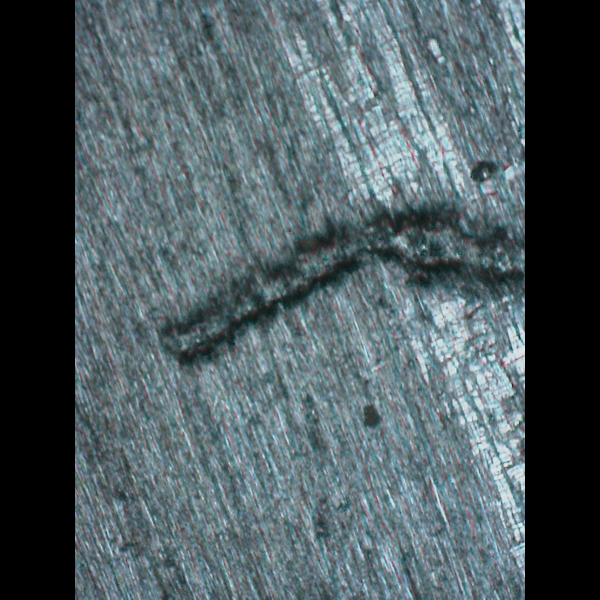d: (155, 159, 524, 377)
